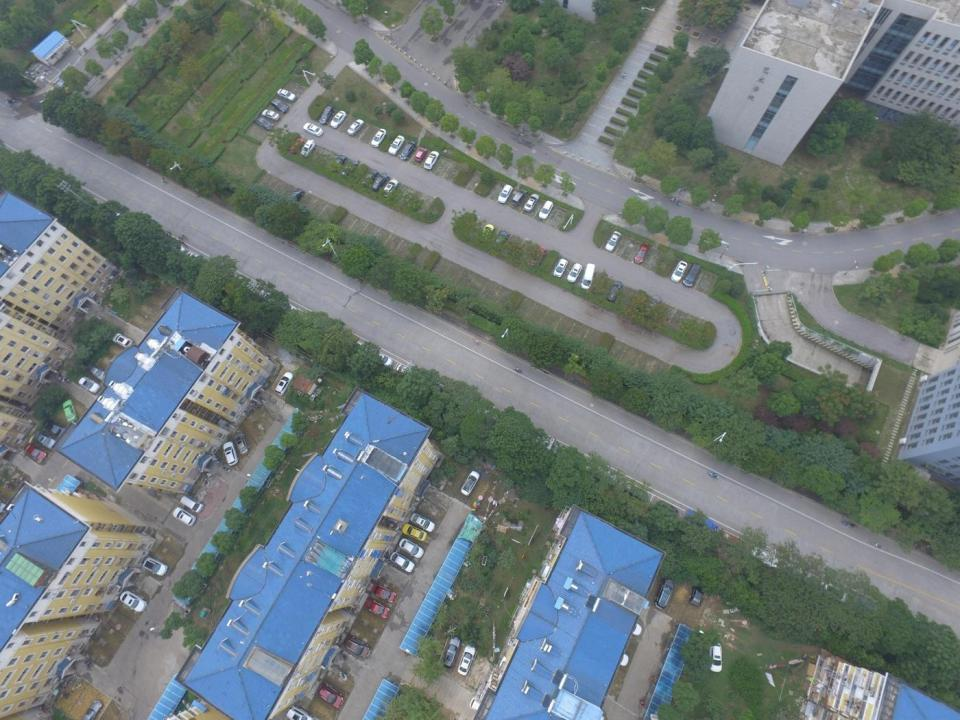car: (318, 684, 344, 708), (120, 590, 148, 612), (344, 636, 372, 658), (457, 644, 476, 676), (654, 579, 674, 609), (389, 551, 415, 573), (443, 636, 460, 668), (460, 470, 480, 496), (398, 538, 424, 558), (469, 696, 496, 715), (274, 371, 294, 396), (708, 642, 724, 673), (80, 700, 104, 720), (365, 598, 389, 618), (624, 483, 649, 502), (143, 557, 168, 576), (402, 523, 427, 542), (616, 618, 642, 636), (172, 507, 196, 526), (411, 513, 435, 532), (286, 705, 316, 720), (642, 294, 662, 316), (42, 420, 66, 438), (372, 584, 396, 602), (23, 444, 47, 461), (605, 649, 629, 666), (222, 441, 238, 466), (670, 261, 688, 283), (34, 431, 56, 449), (233, 432, 250, 455), (690, 580, 704, 607), (78, 377, 100, 394), (62, 399, 78, 422), (634, 242, 650, 264), (606, 280, 622, 302), (372, 351, 394, 367), (388, 135, 405, 155), (399, 140, 416, 160), (530, 246, 546, 267), (605, 231, 621, 252), (657, 501, 678, 517), (371, 128, 387, 148), (497, 184, 513, 204), (538, 200, 554, 220), (567, 262, 583, 282), (112, 332, 132, 348), (423, 151, 440, 169), (382, 179, 399, 197), (330, 110, 346, 129), (523, 193, 539, 212), (553, 258, 568, 278), (276, 299, 297, 313), (347, 119, 364, 136), (300, 139, 316, 157), (330, 154, 346, 172), (362, 169, 378, 187), (372, 172, 388, 190), (255, 116, 274, 131), (319, 105, 334, 124), (494, 231, 509, 250), (303, 123, 324, 136), (512, 190, 528, 207), (270, 99, 289, 113), (480, 224, 494, 243), (396, 364, 416, 377), (341, 160, 357, 176), (54, 75, 73, 88), (277, 88, 296, 101), (90, 366, 106, 381), (288, 188, 303, 204), (169, 242, 186, 256), (261, 109, 280, 121), (290, 138, 304, 154), (259, 289, 276, 302), (415, 147, 427, 162), (186, 252, 200, 263)
truck: (715, 528, 758, 557), (684, 510, 719, 536)
van: (683, 262, 701, 286), (180, 495, 204, 513), (581, 264, 595, 290)
